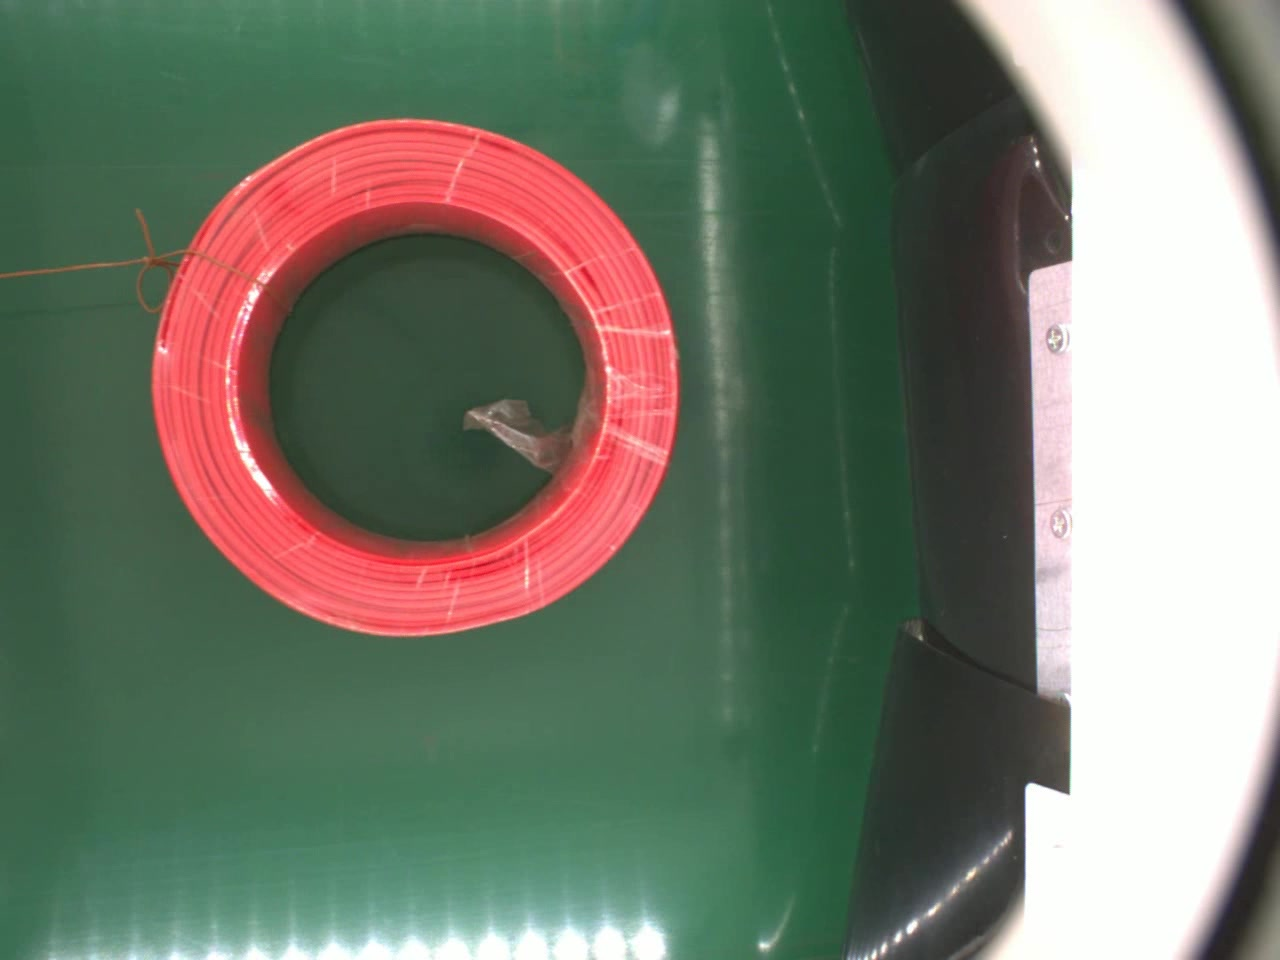red: (151, 115, 680, 636)
